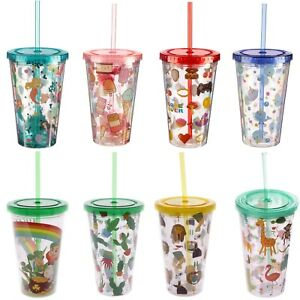plastic_glass: (230, 185, 300, 300), (151, 191, 221, 300), (4, 195, 76, 300), (229, 45, 300, 151), (78, 45, 146, 148), (156, 45, 221, 151), (5, 45, 69, 148), (81, 195, 144, 298)
